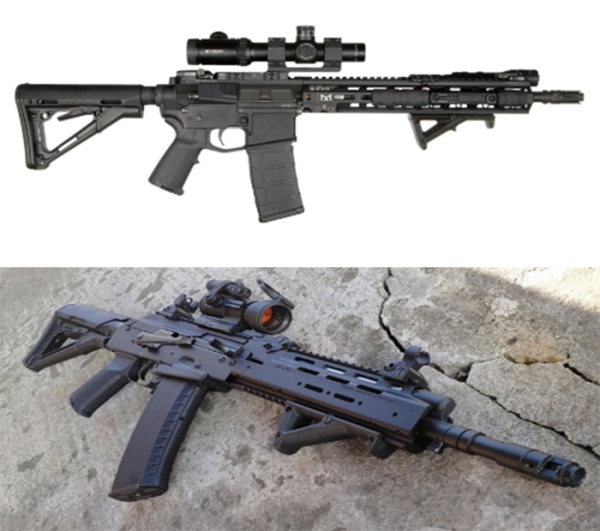ak47: (26, 287, 584, 497), (16, 26, 584, 222)
